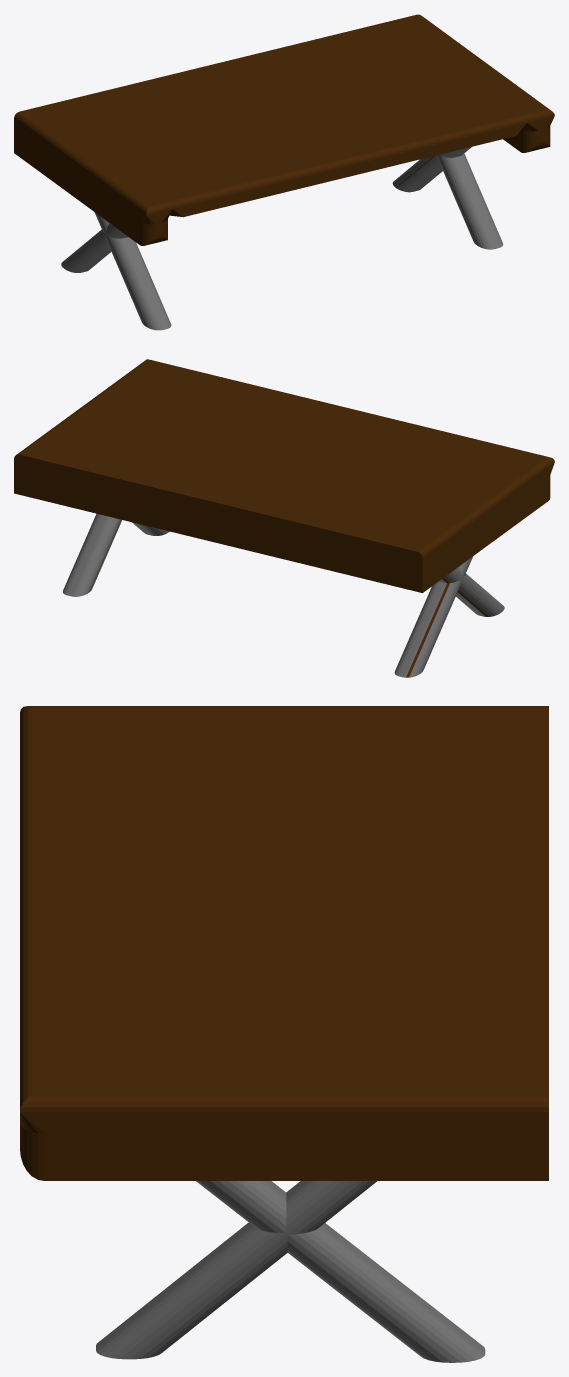
Rendered from Desk.fbx.
3 renders of one model, top to bottom at view 1: azimuth 30°, elevation 25°; view 2: azimuth 150°, elevation 25°; view 3: azimuth 270°, elevation 25°, orthographic. The views are drawn at different scales.
Parts seen in each view (by area): view 1: Cube; view 2: Cube; view 3: Cube.
Boxes of the visible parts, box(x1,y1,x2,y2) form: Cube: box(14, 14, 554, 330); Cube: box(14, 359, 554, 677); Cube: box(20, 706, 548, 1362).
Bounding box in the file's own units: 609 × 206 × 342.
